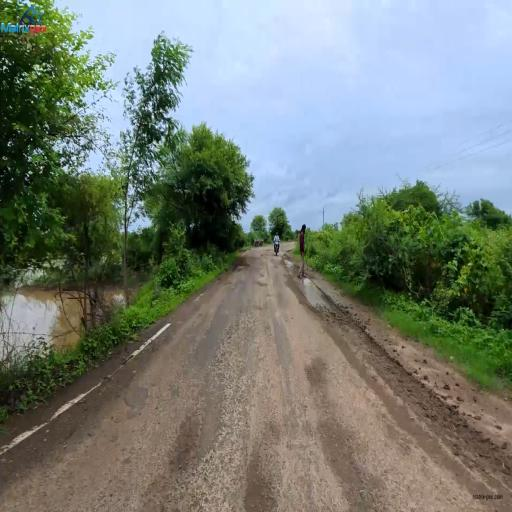ravelling: (205, 331, 285, 472), (318, 363, 366, 486)
